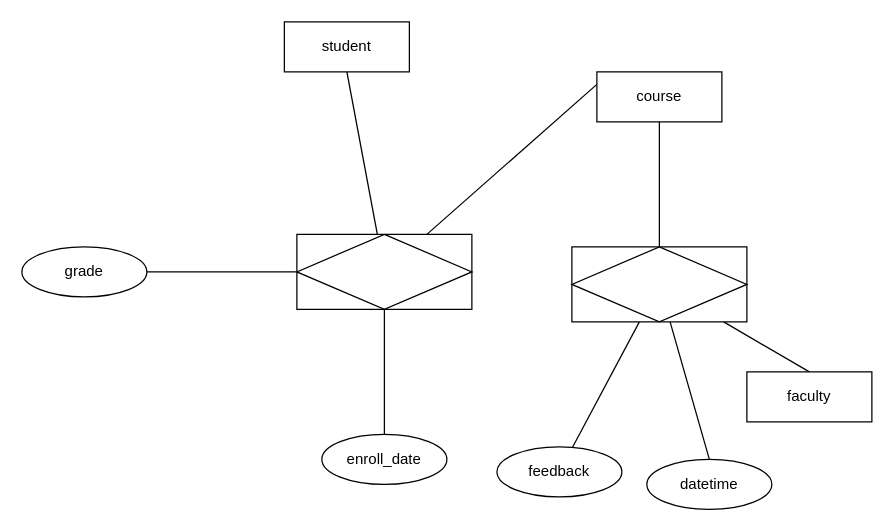
Some shapes in this 894 by 531 pixel diagram are drawn without their labels. The centre of each missing label's shape, as x and y in pixels:
enrolments: (384,271)
staff_course_mapping: (659,284)
